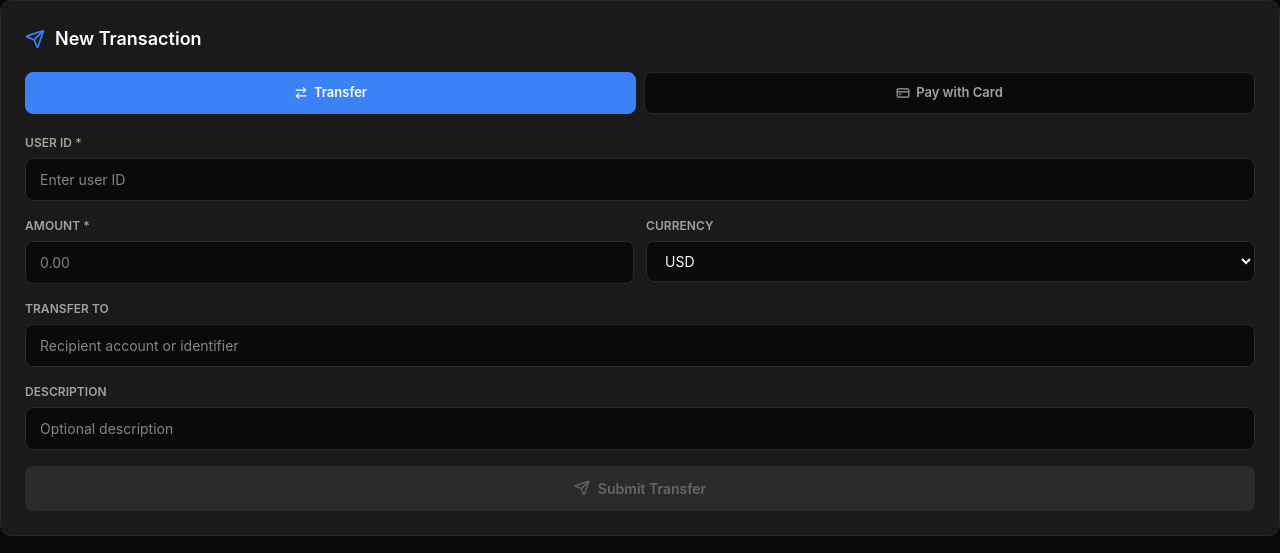
TransactionForm › submit button enables when fields are filled in transfer mode
The image size is (1280, 553).
Type "admin" into the field with test id "txn-user-id" at (640, 179), box [25,158,1255,200]
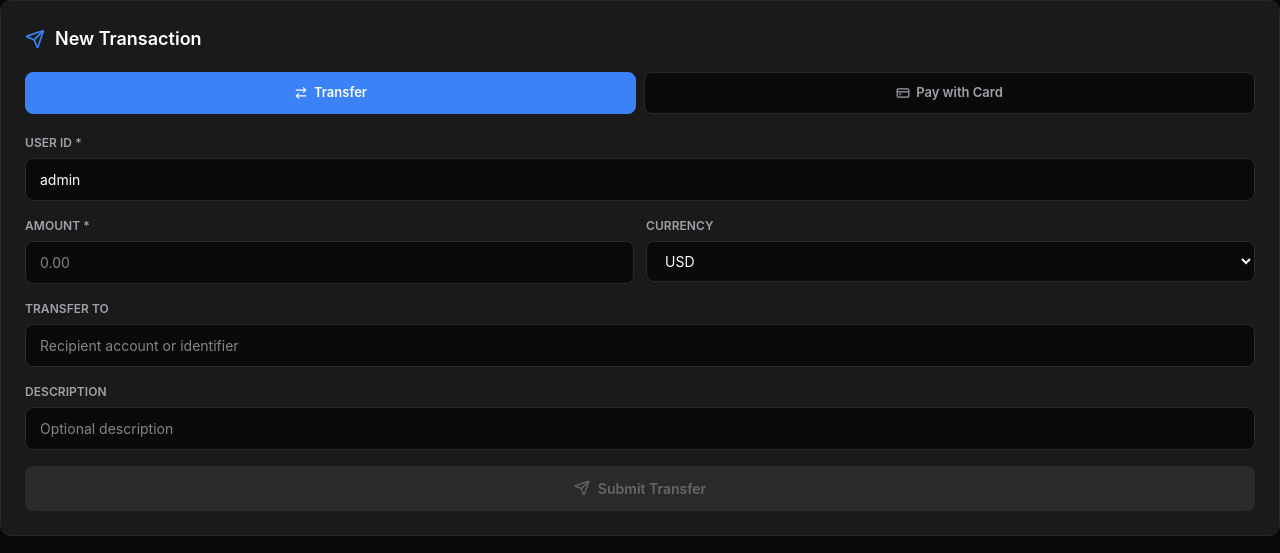
Type "100" into the number field with test id "txn-amount" at (330, 262), box [25,240,634,284]
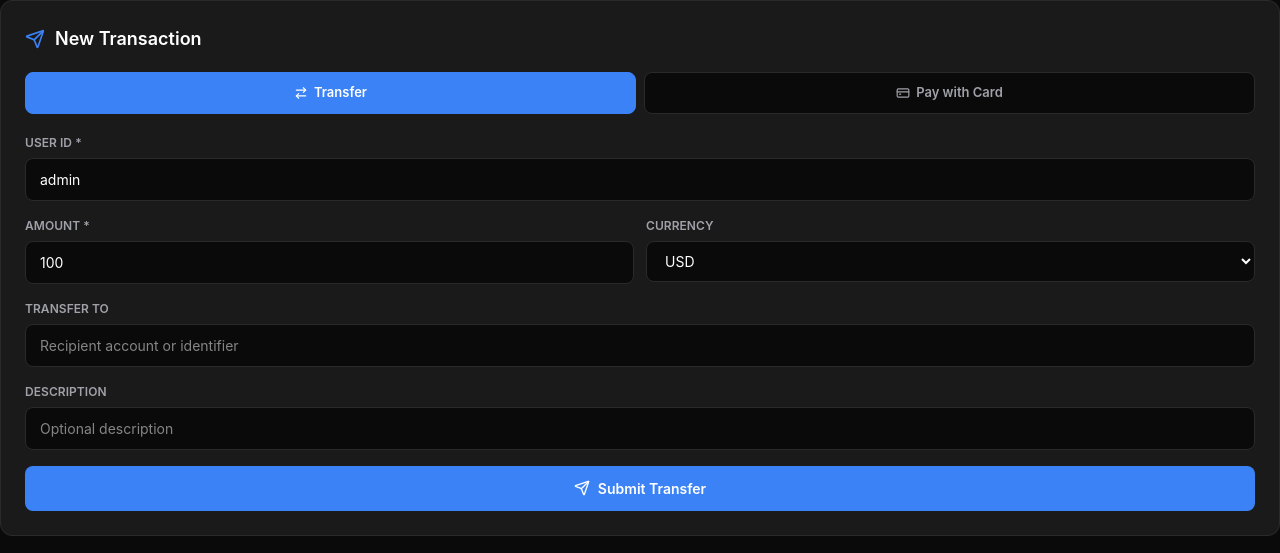
Expected: the button with test id "txn-submit" is enabled, [25,466,1255,510]
